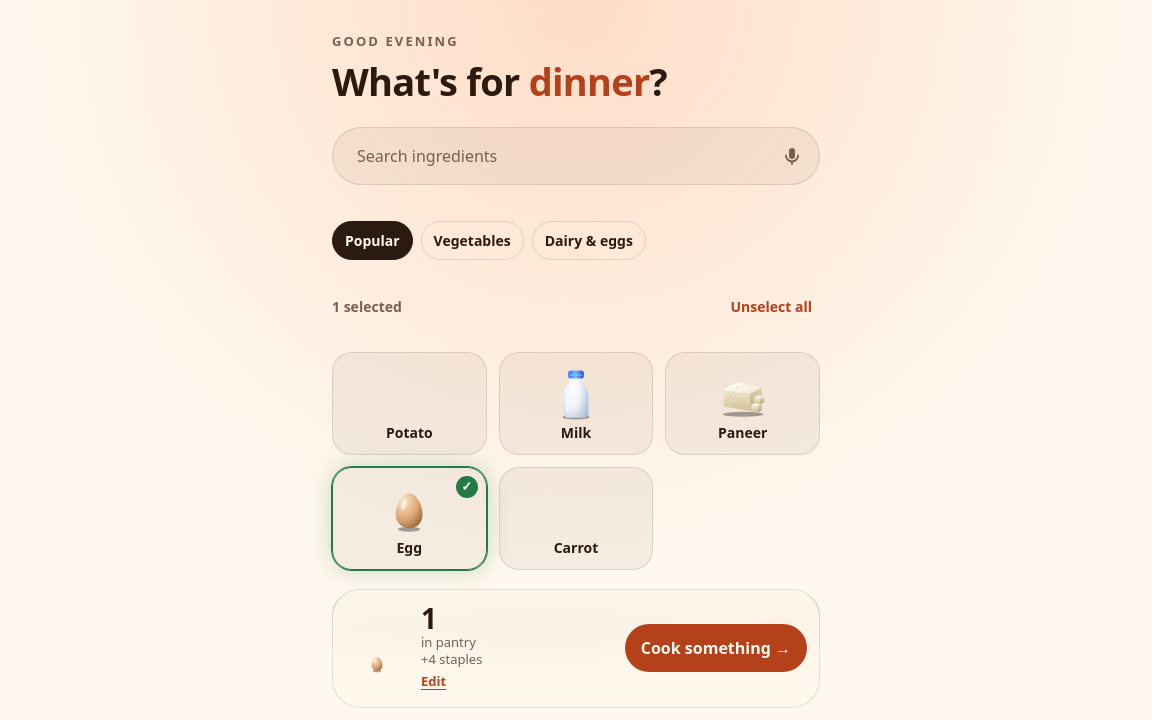
Test: a blocked microphone is explained, and nothing is added
The width and height of the screenshot is (1152, 720).
Expected: the button "Potato" is shown, [332, 352, 487, 455]
Click the button named "Say what you have" at [792, 156], box [772, 136, 812, 176]
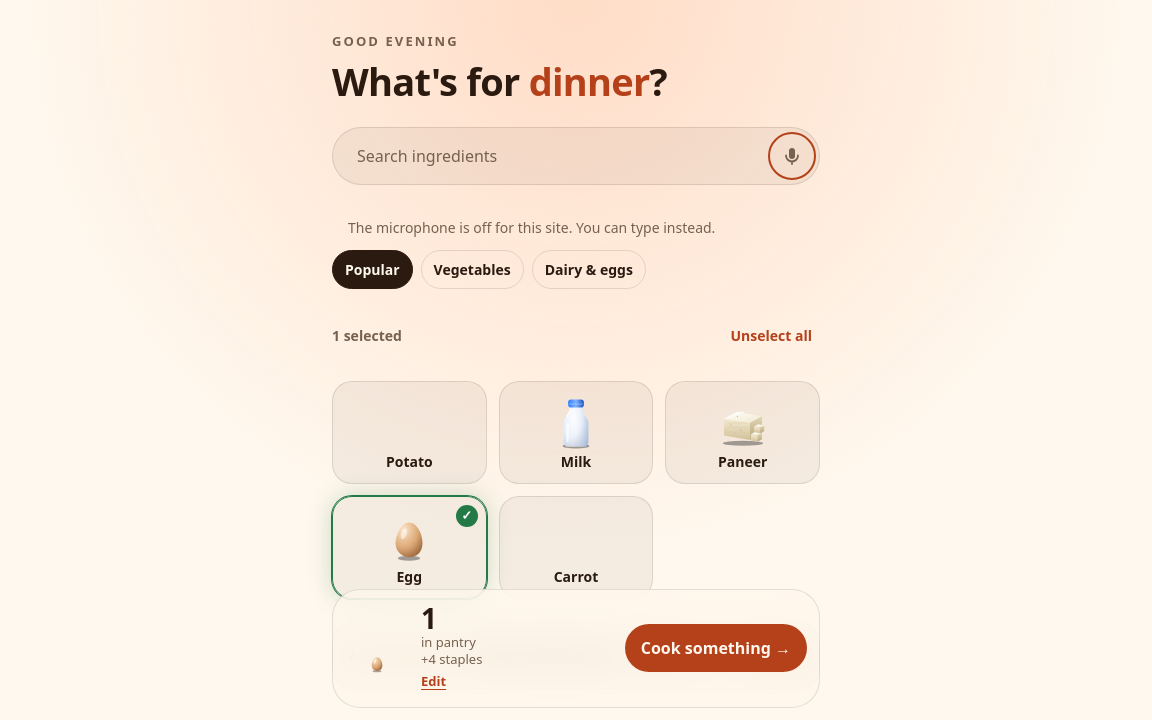
Result: the text "The microphone is off for this site. You can type instead." is shown at [348, 218, 715, 237]
